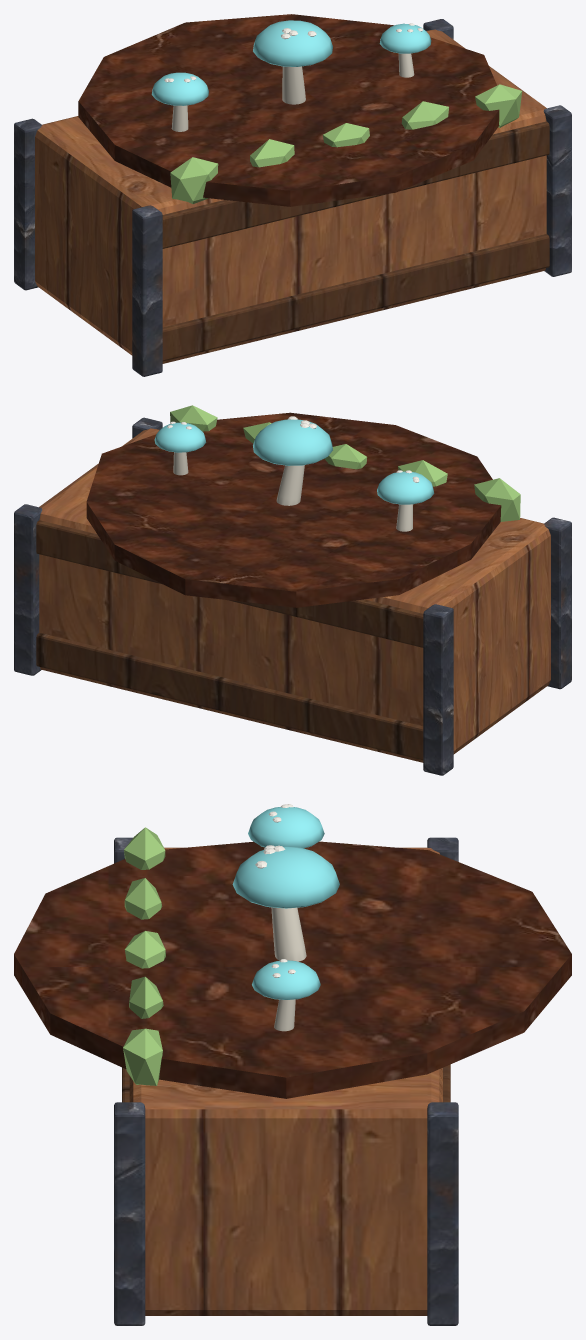
The model's file is mushroom_planter.glb.
The picture shows the model from 3 angles, top to bottom: view 1: azimuth 30°, elevation 25°; view 2: azimuth 150°, elevation 25°; view 3: azimuth 270°, elevation 25°; orthographic projection. The views are drawn at different scales.
Visible parts, largest first — view 1: model; view 2: model; view 3: model.
Part boxes in pixels (left/top/right/bottom): model: left=14, top=14, right=571, bottom=376; model: left=14, top=405, right=571, bottom=775; model: left=14, top=804, right=571, bottom=1325.
Bounding box in the file's own units: 0.84 × 0.4731 × 0.7127.
13 materials, 4 textured.
